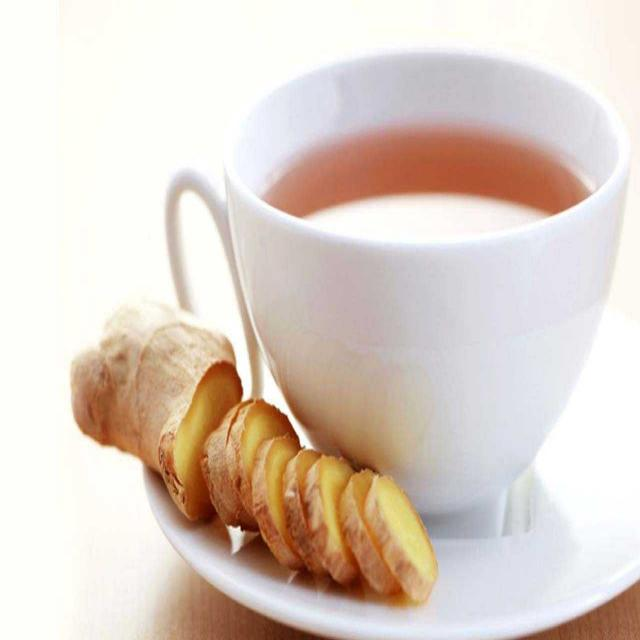ginger: (74, 282, 444, 608)
